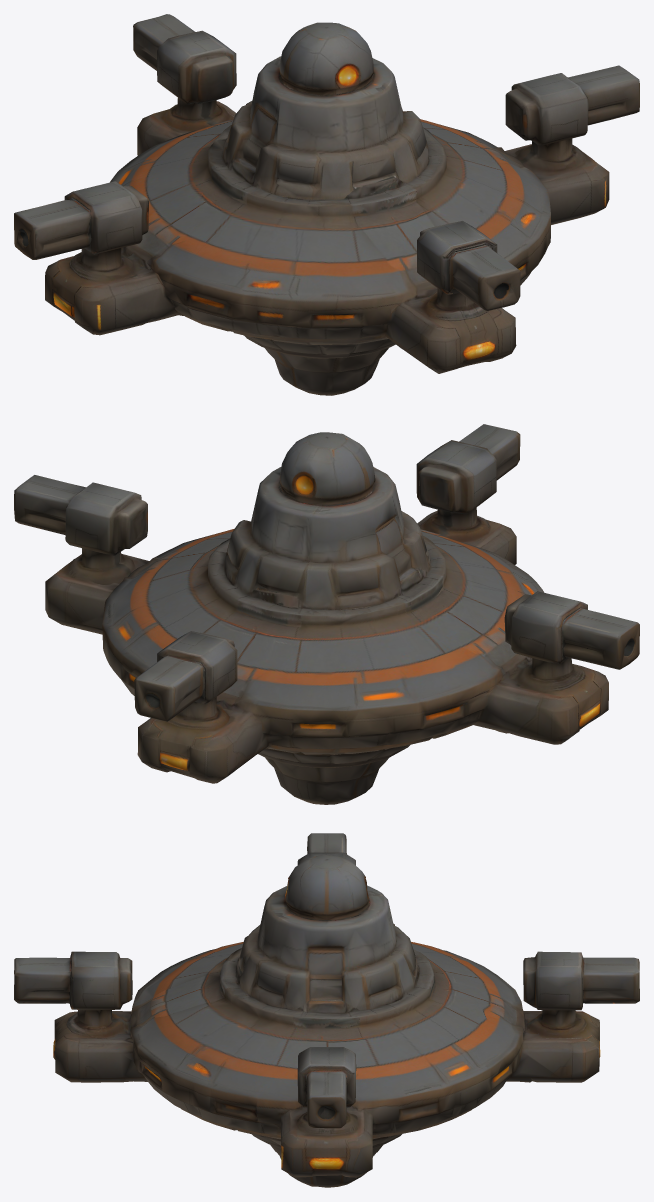
The model's file is plat.gltf.
The picture shows the model from 3 angles, top to bottom: view 1: azimuth 30°, elevation 25°; view 2: azimuth 150°, elevation 25°; view 3: azimuth 270°, elevation 25°; orthographic projection. The views are drawn at different scales.
Bounding box in the file's own units: 2 × 1.12 × 2.
Materials: 1 (1 with a texture image).
